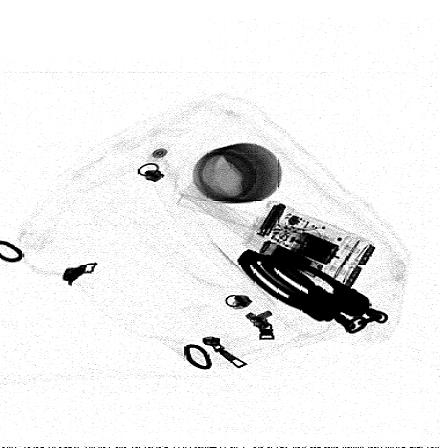HandCuffs: (237, 245, 388, 335)
